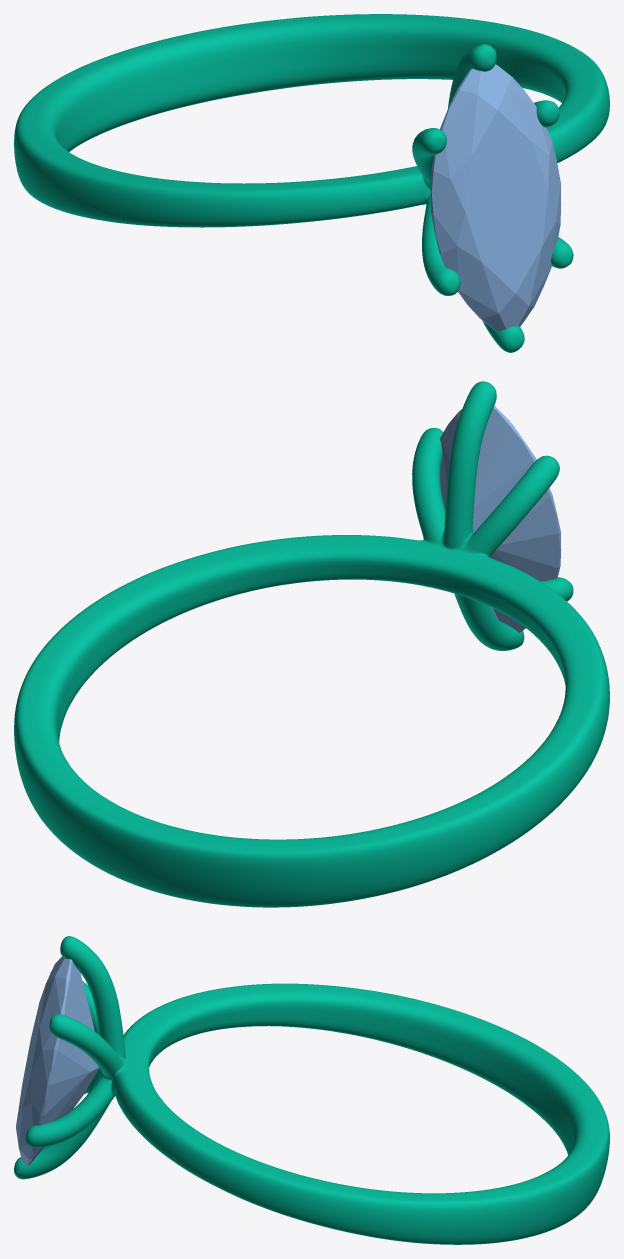
3 renders of one model, top to bottom at view 1: azimuth 30°, elevation 25°; view 2: azimuth 150°, elevation 25°; view 3: azimuth 270°, elevation 25°, orthographic. The views are drawn at different scales.
Parts seen in each view (by area): view 1: FOR RENDER.3dm, Diamond_Marquise; view 2: FOR RENDER.3dm, Diamond_Marquise; view 3: FOR RENDER.3dm, Diamond_Marquise.
Boxes of the visible parts, left/top/right/bottom form: FOR RENDER.3dm: left=14, top=14, right=609, bottom=352; Diamond_Marquise: left=430, top=64, right=561, bottom=332; FOR RENDER.3dm: left=14, top=381, right=609, bottom=907; Diamond_Marquise: left=440, top=406, right=561, bottom=632; FOR RENDER.3dm: left=14, top=936, right=609, bottom=1244; Diamond_Marquise: left=16, top=956, right=99, bottom=1166.
Bounding box in the file's own units: 2.45 × 1.29 × 2.89.
